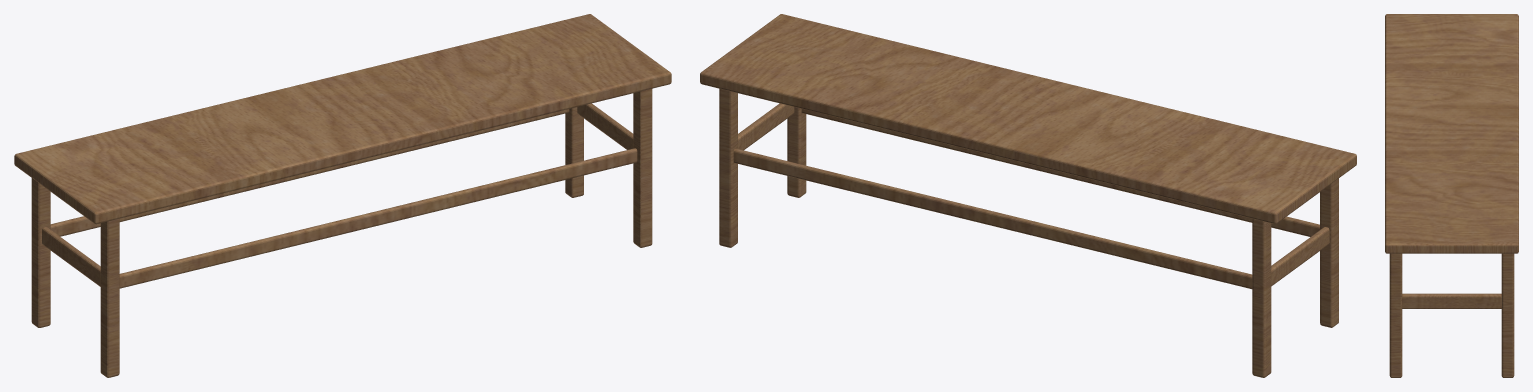
Rendered from Bench.fbx.
3 renders of one model, left to right at view 1: azimuth 30°, elevation 25°; view 2: azimuth 150°, elevation 25°; view 3: azimuth 270°, elevation 25°, orthographic. The views are drawn at different scales.
Parts seen in each view (by area): view 1: Bench; view 2: Bench; view 3: Bench.
Boxes of the visible parts, bbox=[...] form: Bench: bbox=[14, 14, 671, 377]; Bench: bbox=[700, 14, 1356, 377]; Bench: bbox=[1385, 14, 1518, 377].
Size of the model in its own units: 4394 by 1249 by 1075.
